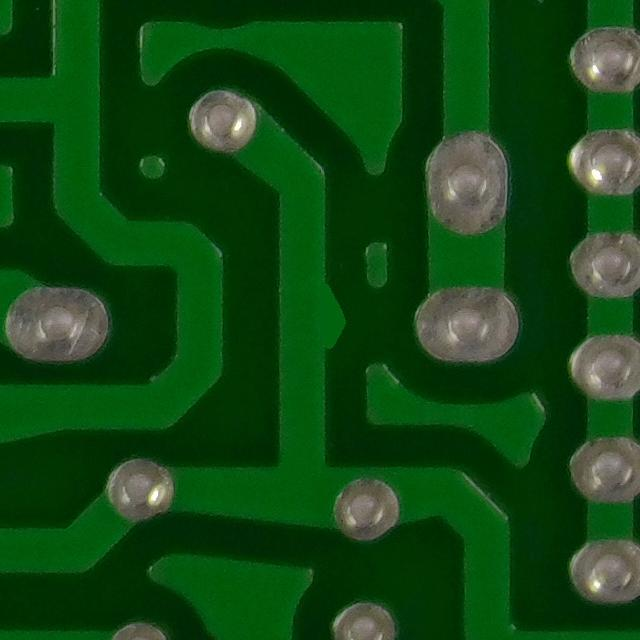spur: (287, 274, 353, 367)
